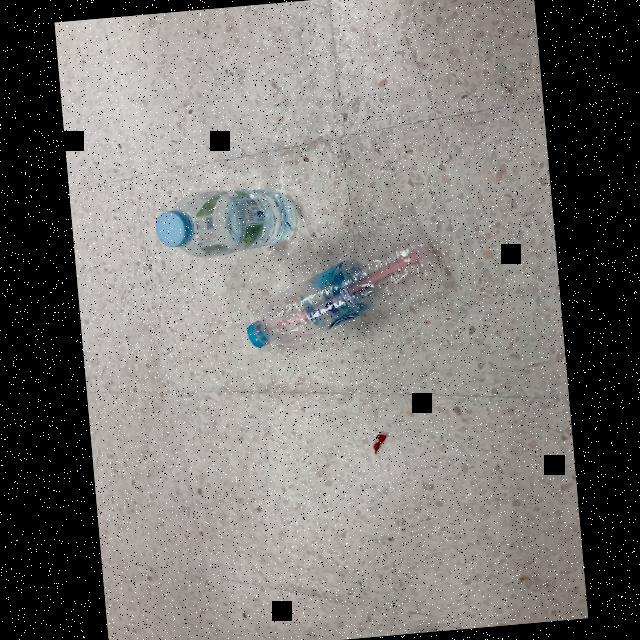plastic_bottle: (238, 234, 447, 350), (152, 182, 300, 262)
plastic_bottle_cap: (154, 208, 194, 248)
straw: (339, 242, 436, 298)
